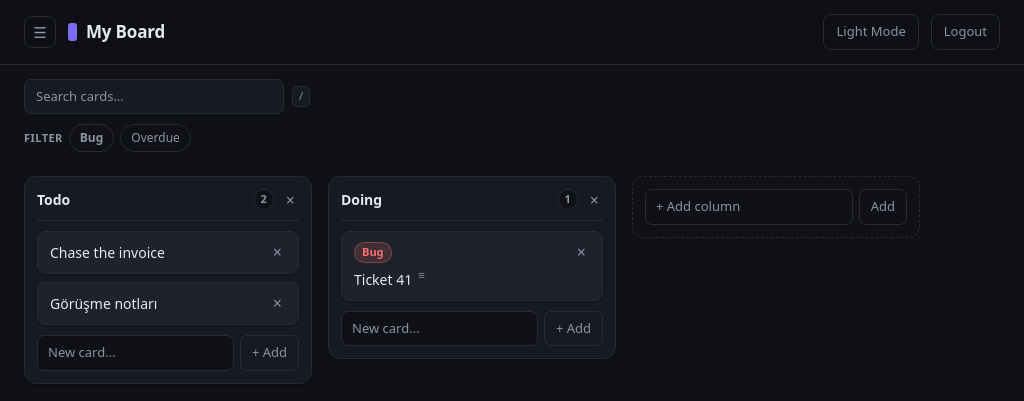
Scenario: searching the board › finds an accented title typed without the accents
Expected: the heading "Todo" is shown, x1=37 y1=190 x2=70 y2=209
Type "gorusme" into the search field labelled "Search cards" at (154,96), box x1=24 y1=78 x2=284 y2=114
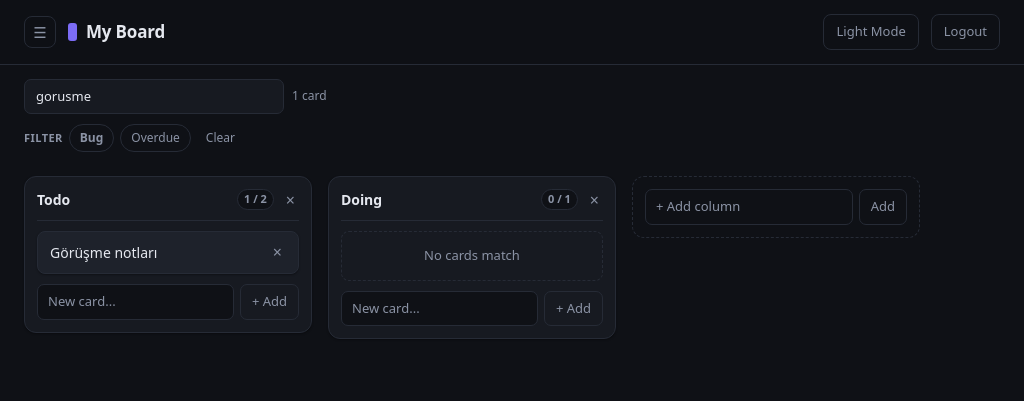
Expected: the text "Görüşme notları" is shown, x1=50 y1=242 x2=158 y2=263
Expected: the button "Chase the invoice" is gone
